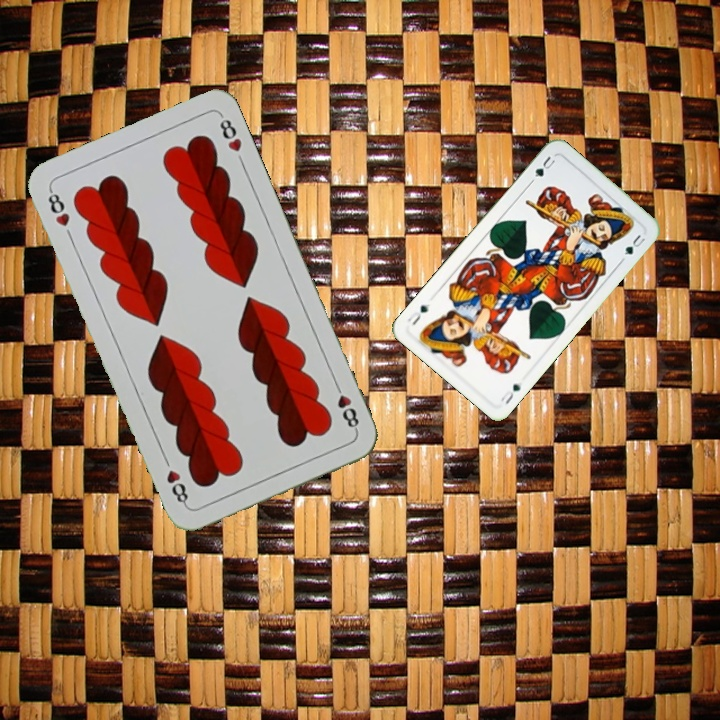GU: (530, 152, 558, 180), (496, 380, 524, 407)
H8: (330, 378, 362, 434), (43, 185, 73, 229)
